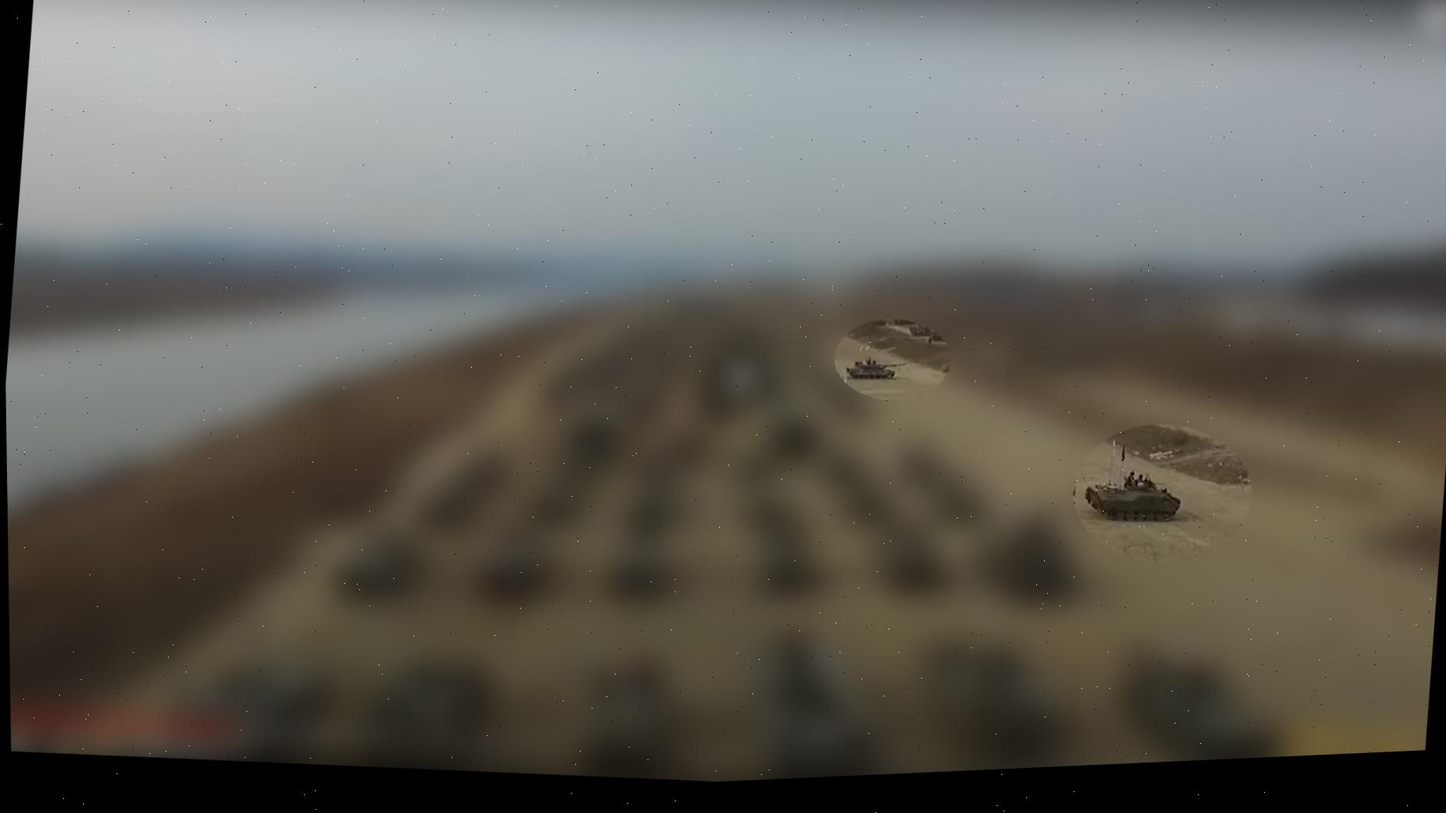armored_car: (1080, 464, 1190, 529)
tank: (837, 351, 915, 391)
